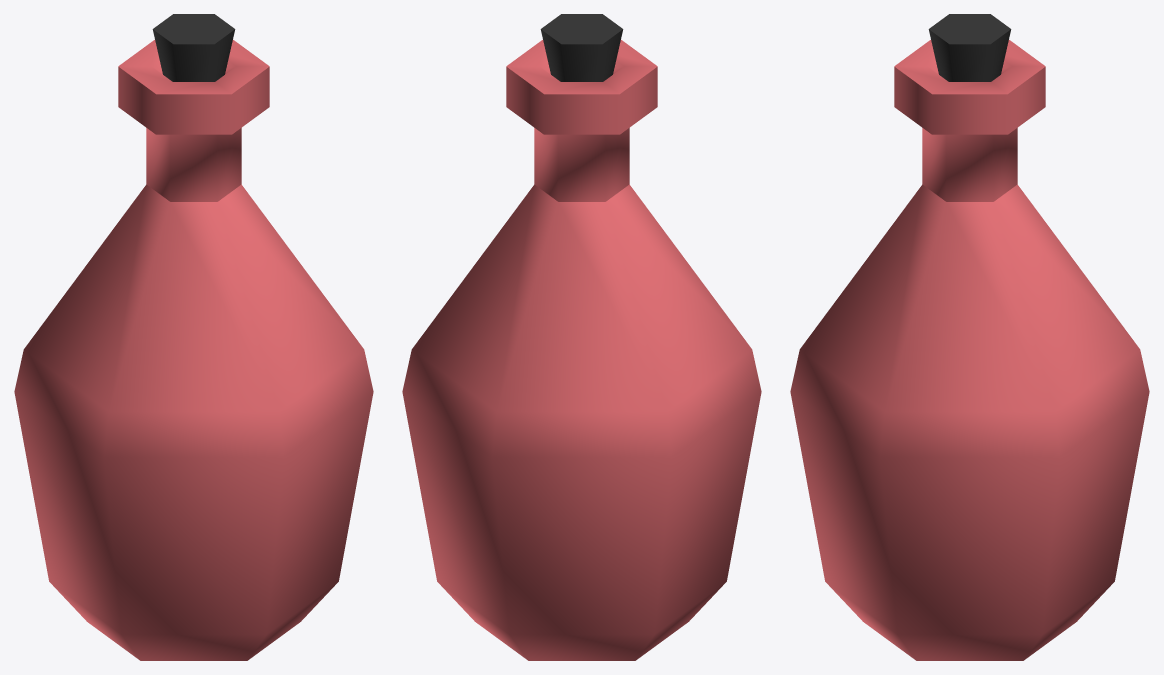
Rendered from poition_pink.fbx.
3 views of the same model, side by side, from view 1: azimuth 30°, elevation 25°; view 2: azimuth 150°, elevation 25°; view 3: azimuth 270°, elevation 25° (orthographic).
Parts seen in each view (by area): view 1: Potion_Blue; view 2: Potion_Blue; view 3: Potion_Blue.
Boxes of the visible parts, bbox=[...] form: Potion_Blue: bbox=[14, 14, 373, 660]; Potion_Blue: bbox=[402, 14, 761, 660]; Potion_Blue: bbox=[790, 14, 1149, 660].
Size of the model in its own units: 11.77 by 24.75 by 13.59.
